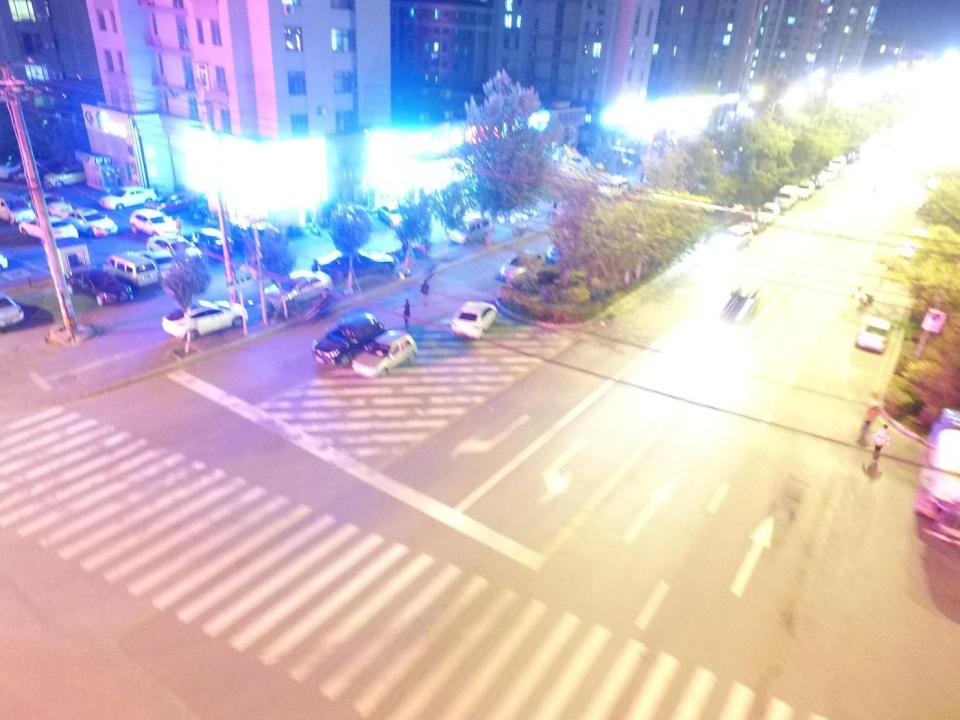car: (312, 311, 385, 366), (161, 300, 249, 338), (352, 329, 417, 378), (63, 268, 134, 306), (264, 270, 333, 309), (314, 248, 394, 278), (146, 233, 202, 266), (452, 300, 498, 340), (19, 214, 78, 244), (721, 283, 760, 326), (63, 207, 117, 238), (130, 208, 178, 240), (499, 250, 546, 282), (132, 249, 176, 282), (187, 227, 233, 258), (854, 315, 890, 354), (99, 186, 157, 210), (144, 192, 197, 217), (41, 164, 93, 188), (546, 238, 590, 265), (26, 194, 72, 219), (1, 196, 37, 227), (11, 160, 61, 182), (1, 158, 44, 182), (0, 294, 23, 329), (377, 204, 410, 228), (758, 202, 780, 224), (741, 219, 766, 233), (798, 180, 815, 199), (811, 173, 826, 188), (821, 168, 838, 179)
van: (914, 408, 960, 543), (103, 254, 158, 288), (448, 218, 491, 246), (719, 225, 752, 249), (774, 185, 800, 210), (828, 156, 846, 172)
